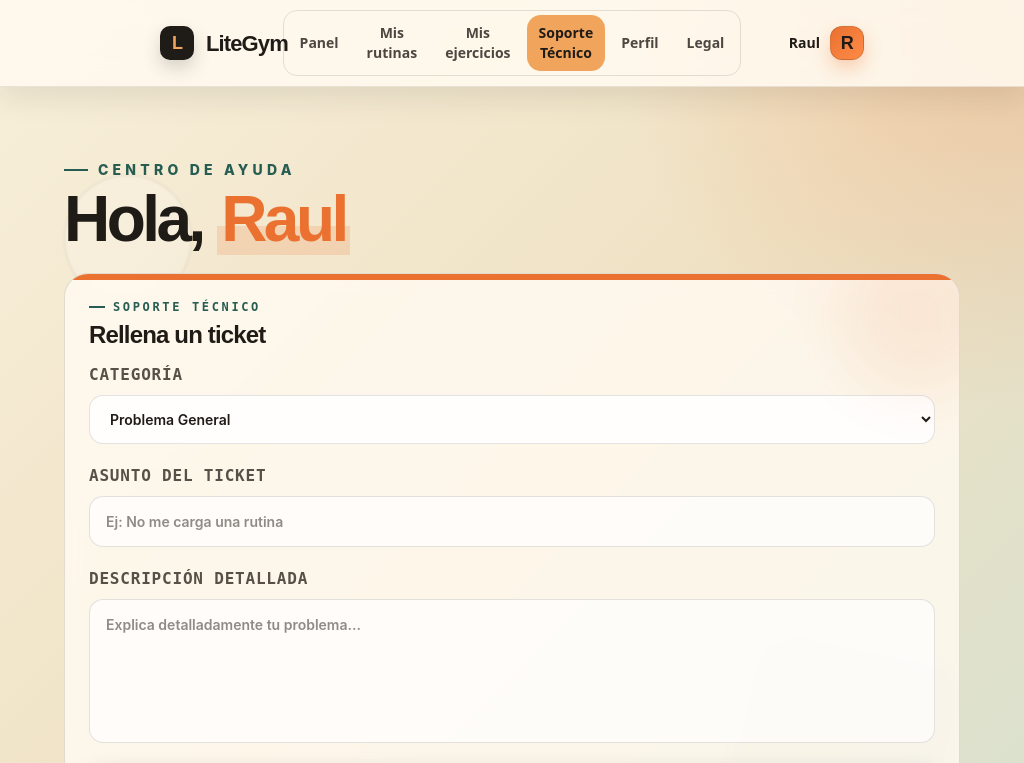
SupportPage › muestra un mensaje de error si el servidor falla al enviar el ticket
Type "Error fatal" into the field with placeholder "Ej: No me carga una rutina" at (512, 522), box top-left (89, 496), bottom-right (935, 547)
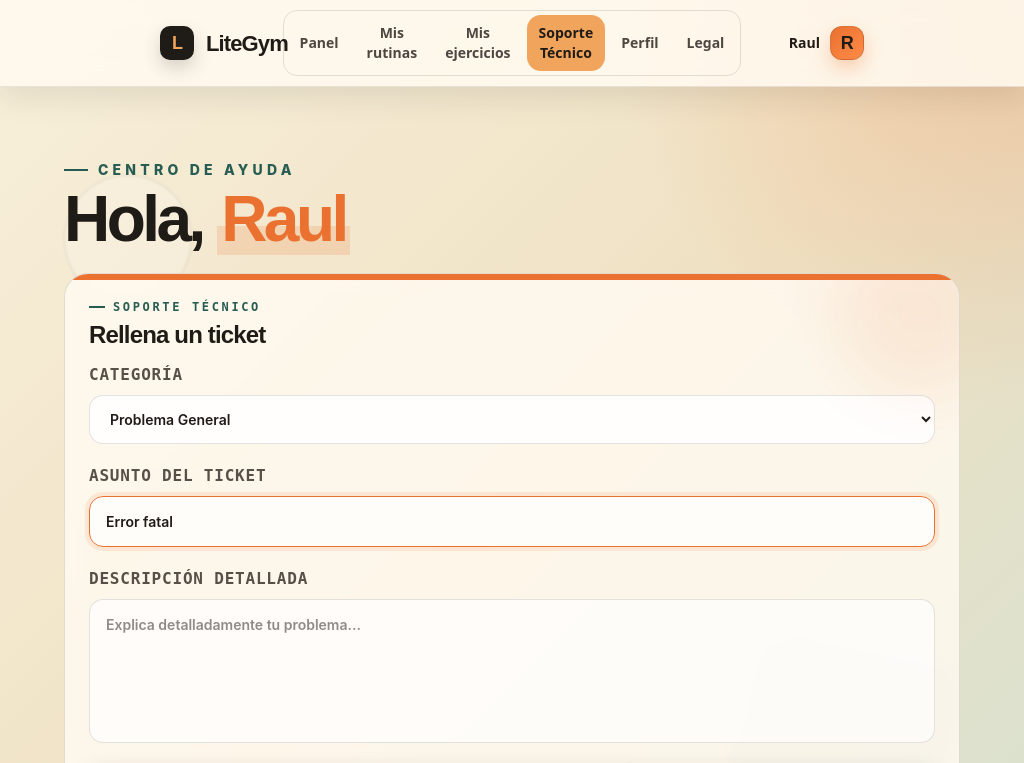
Type "La app explota al abrir" into the text box with placeholder "Explica detalladamente tu problema..." at (512, 671), box top-left (89, 599), bottom-right (935, 743)
(page scrolled)
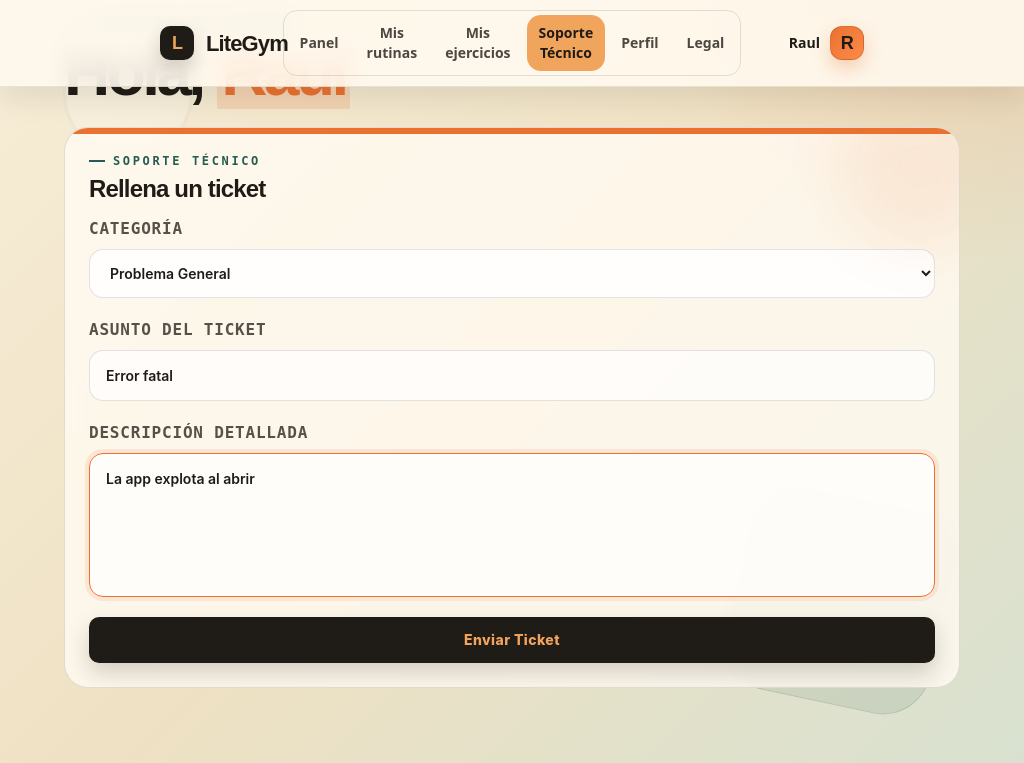
Click the button "Enviar Ticket" at (512, 640), box top-left (89, 617), bottom-right (935, 663)
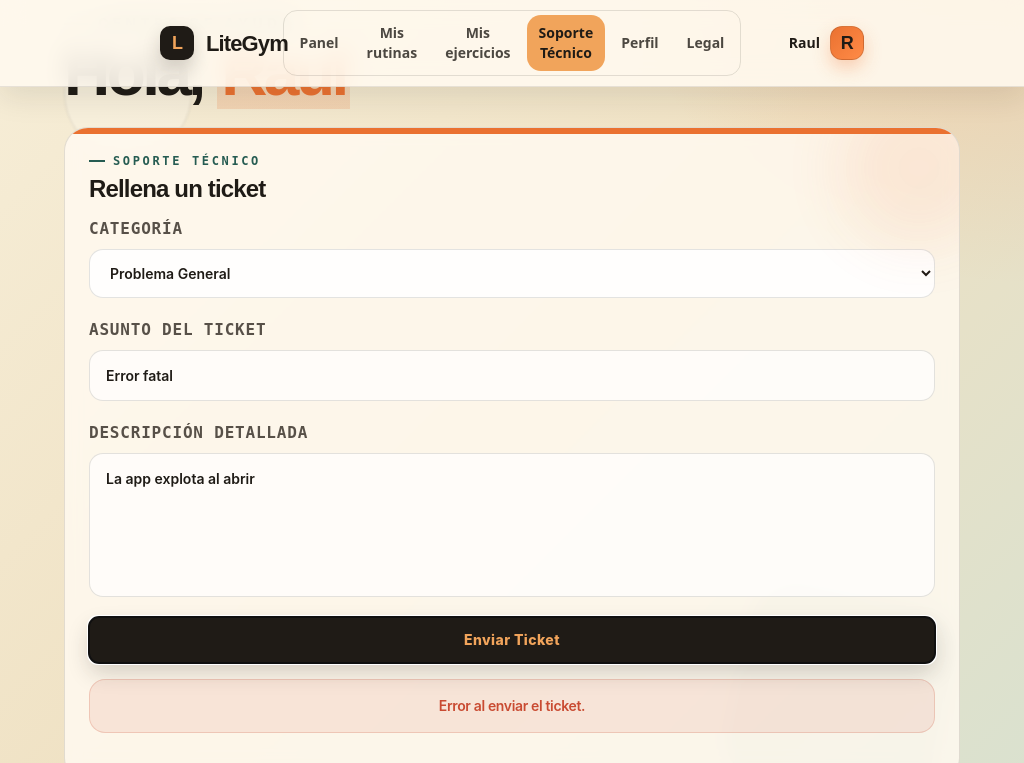
Check: the text "Error al enviar el ticket." is shown, box top-left (89, 679), bottom-right (935, 733)
